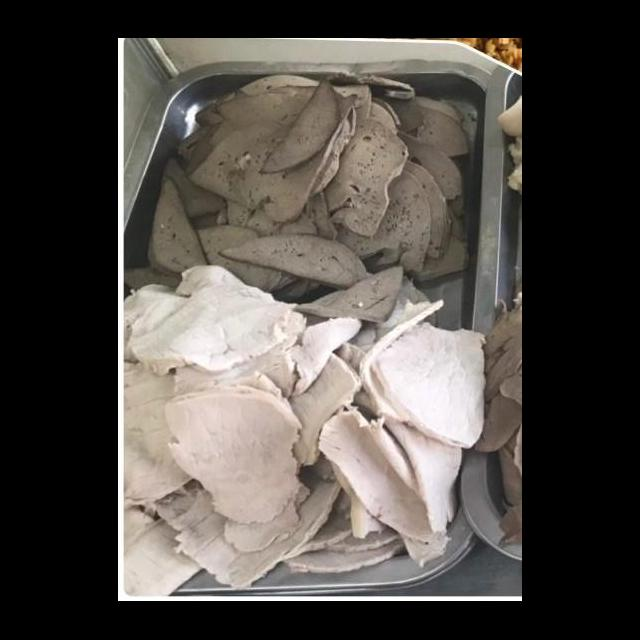gan: (216, 82, 411, 244), (182, 90, 359, 228), (119, 220, 289, 306), (328, 160, 434, 280), (214, 225, 376, 298), (253, 75, 343, 178), (378, 147, 452, 266), (288, 258, 411, 328), (147, 170, 215, 284)
thit heo: (119, 364, 305, 514), (335, 334, 466, 534), (165, 462, 350, 594), (159, 384, 311, 530), (127, 262, 308, 378), (311, 406, 453, 546), (369, 318, 492, 456), (252, 322, 366, 470), (343, 296, 457, 430)
